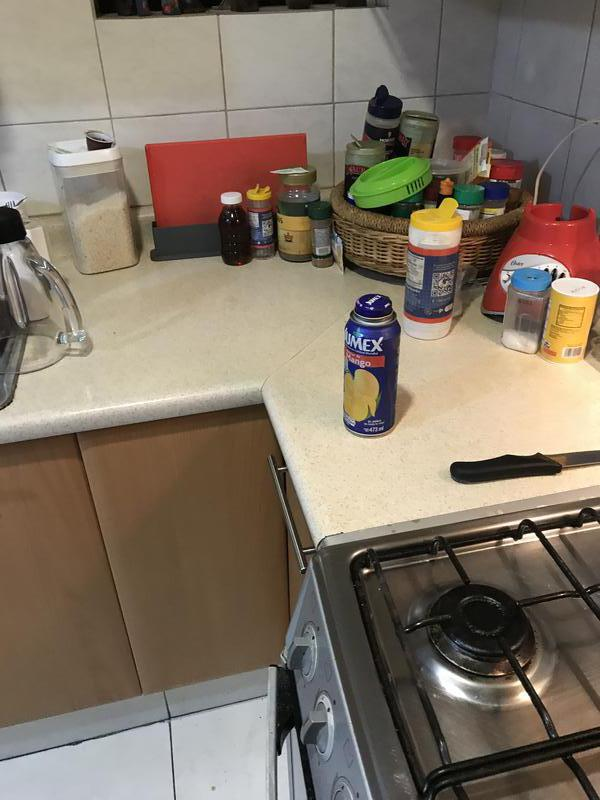jugo_jumex: (342, 293, 400, 435)
